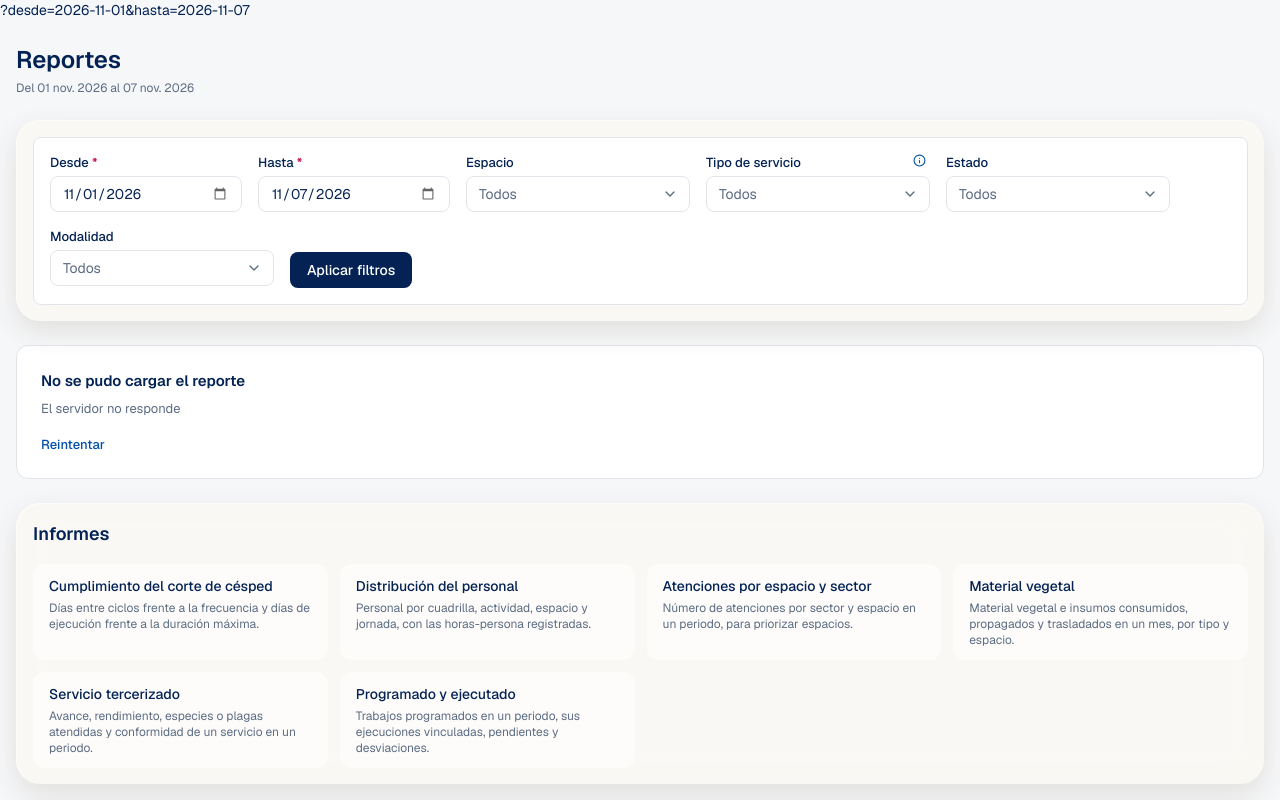
Test: Reportes · cifras, filtros y detalle (RD-59) › un error del servidor ofrece reintentar y conserva los filtros
Expected: the heading "No se pudo cargar el reporte" is shown, x1=41 y1=370 x2=245 y2=392
Click the button "Reintentar": (73, 445) x1=41 y1=436 x2=105 y2=454
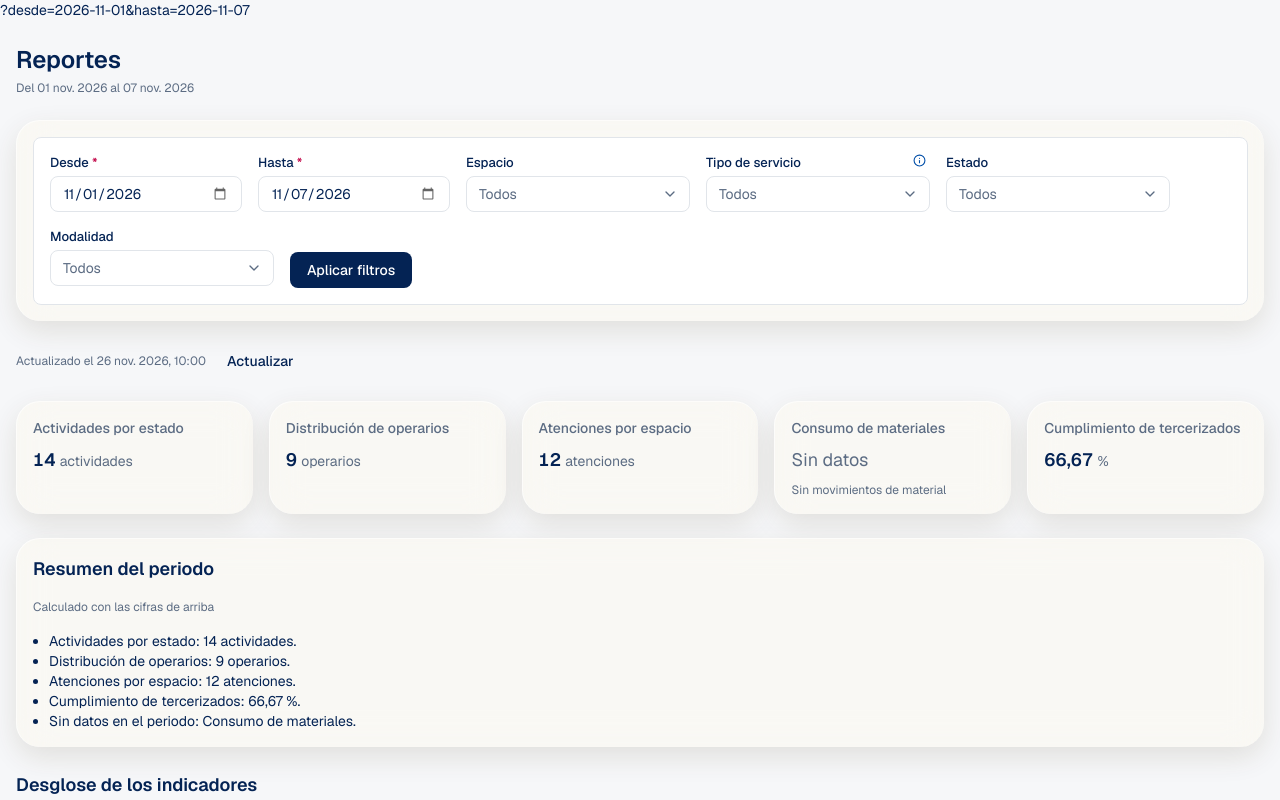
Result: the link named "Atenciones por espacio 12 atenciones Ver detalle" is shown at x1=522 y1=401 x2=758 y2=514
